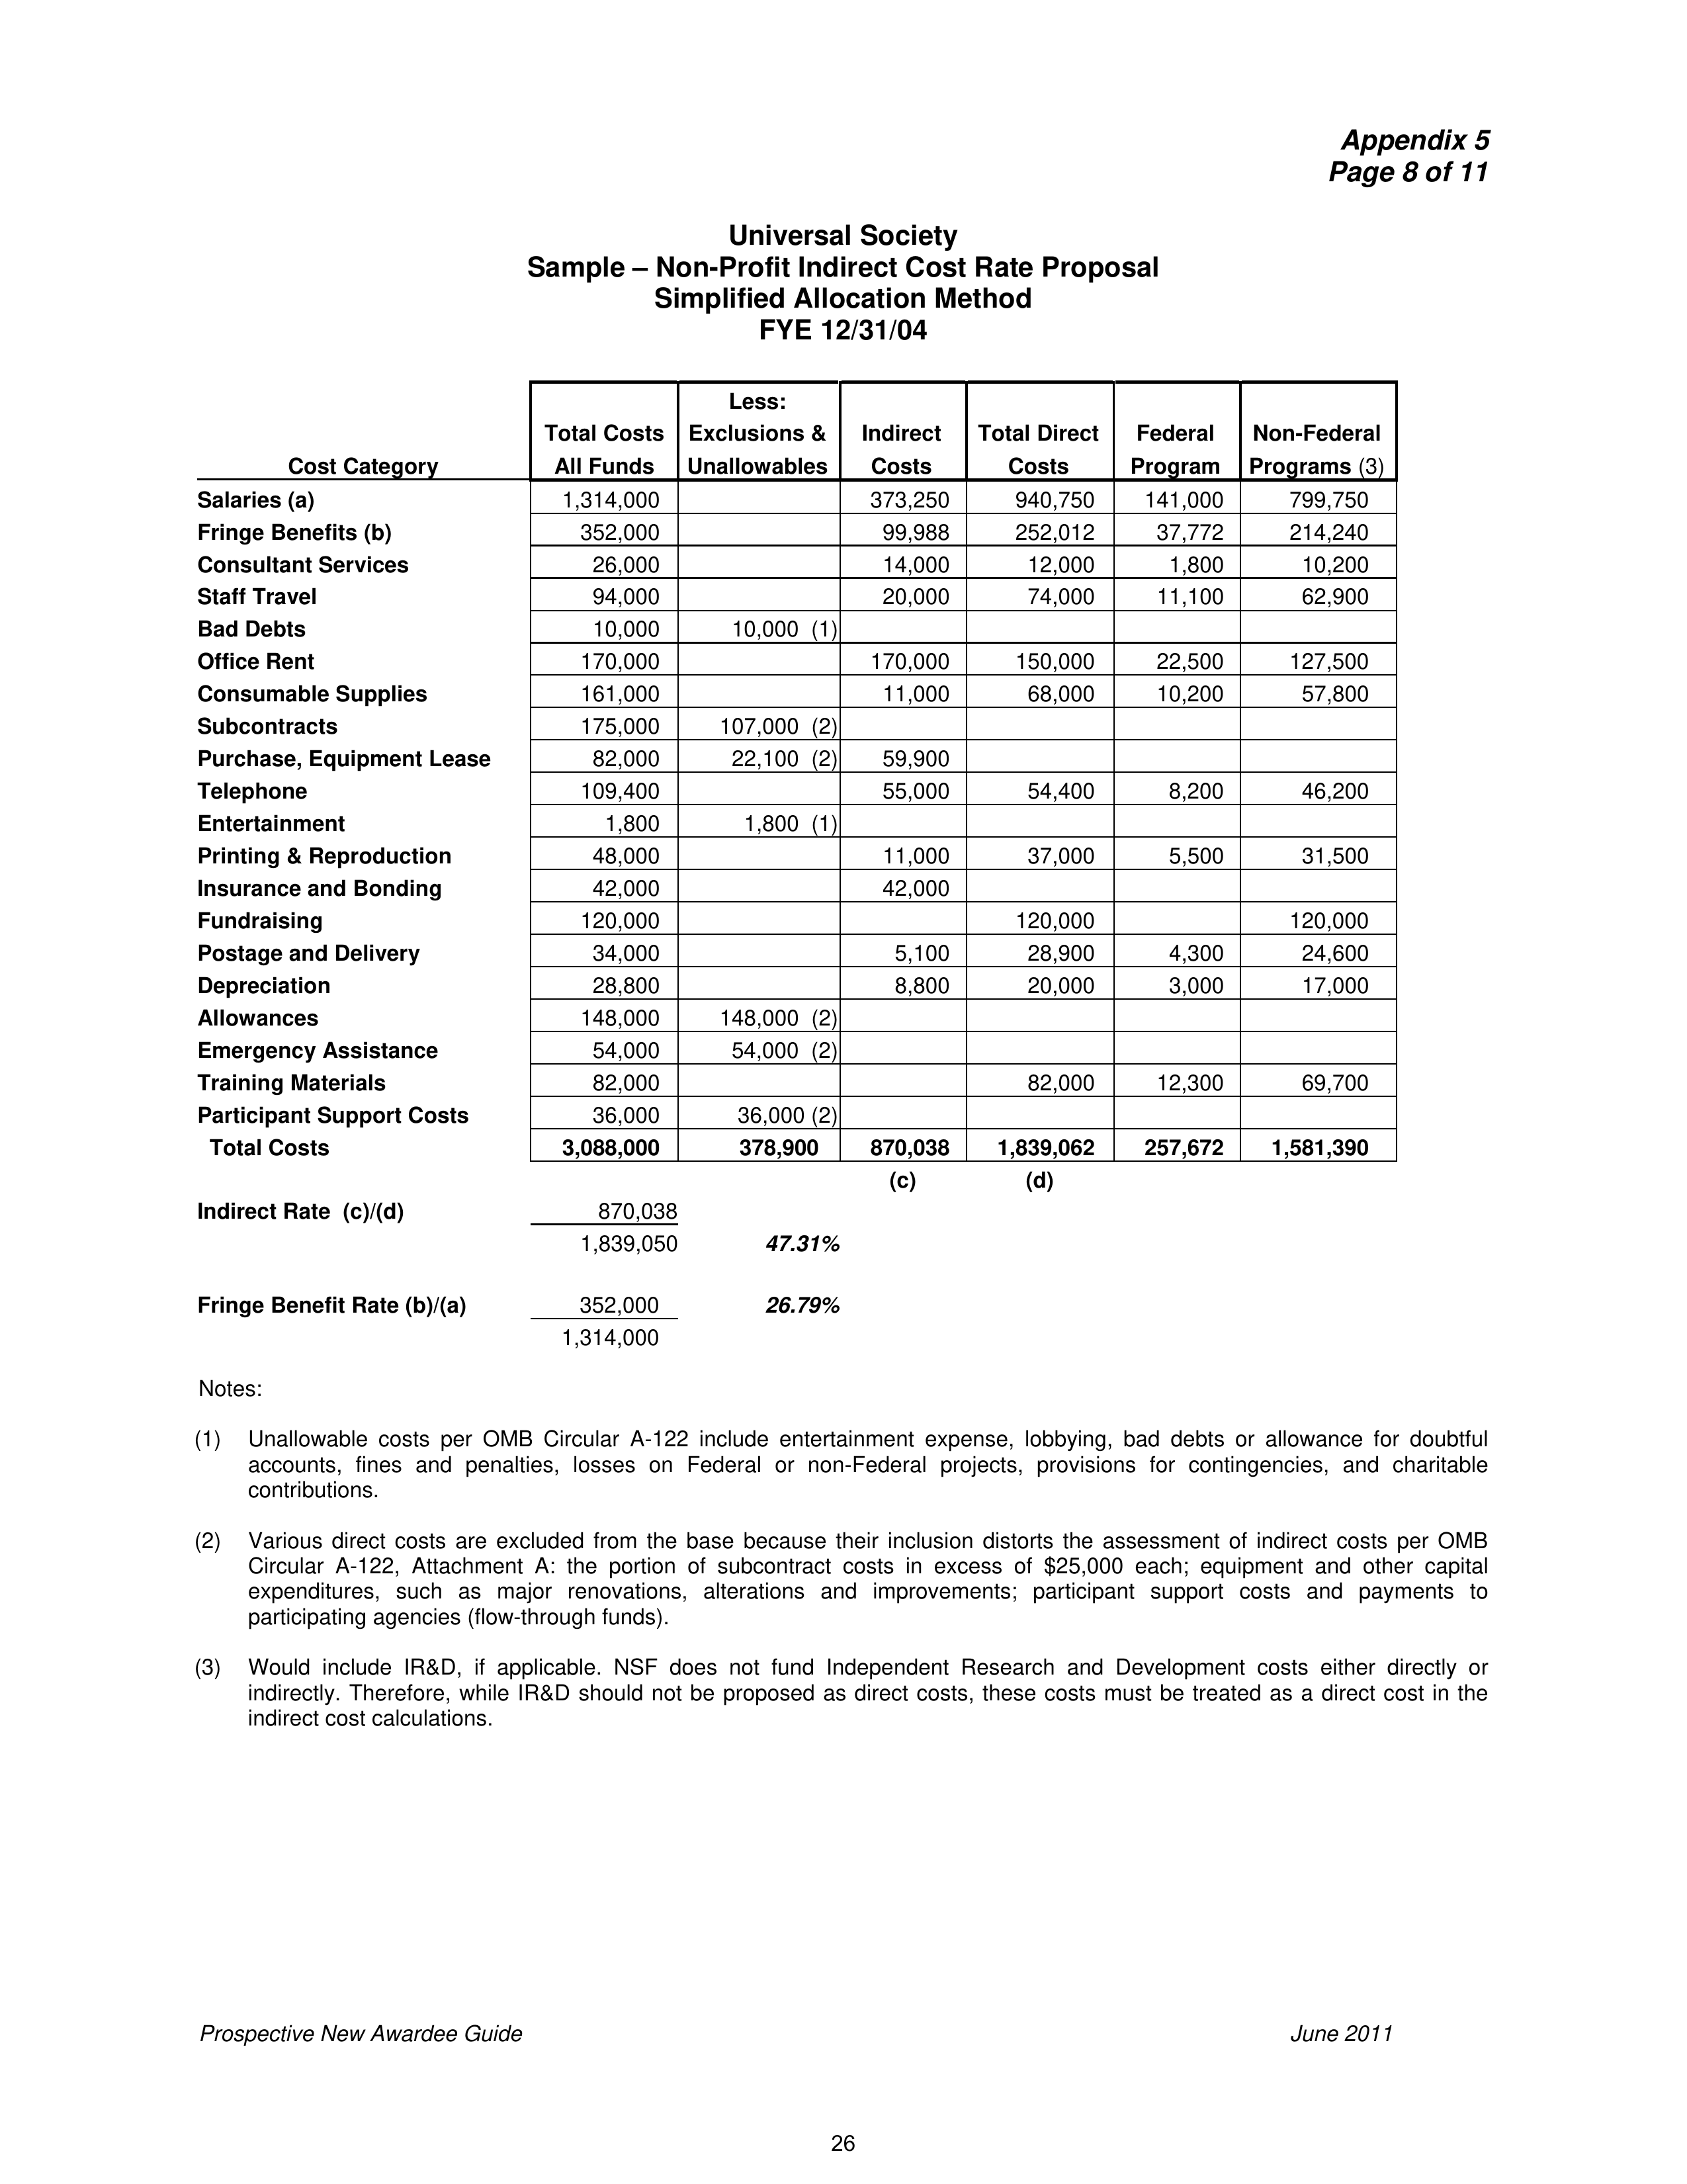table: (188, 377, 1400, 1164)
